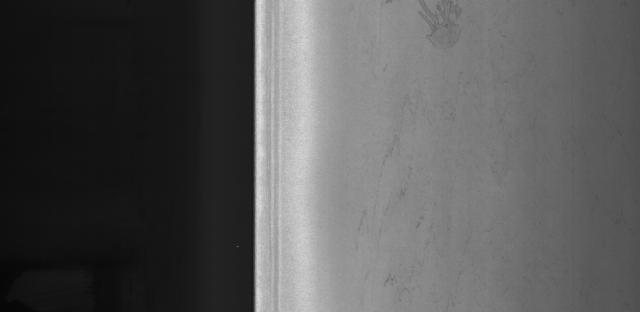water_spot: (399, 0, 483, 55)
